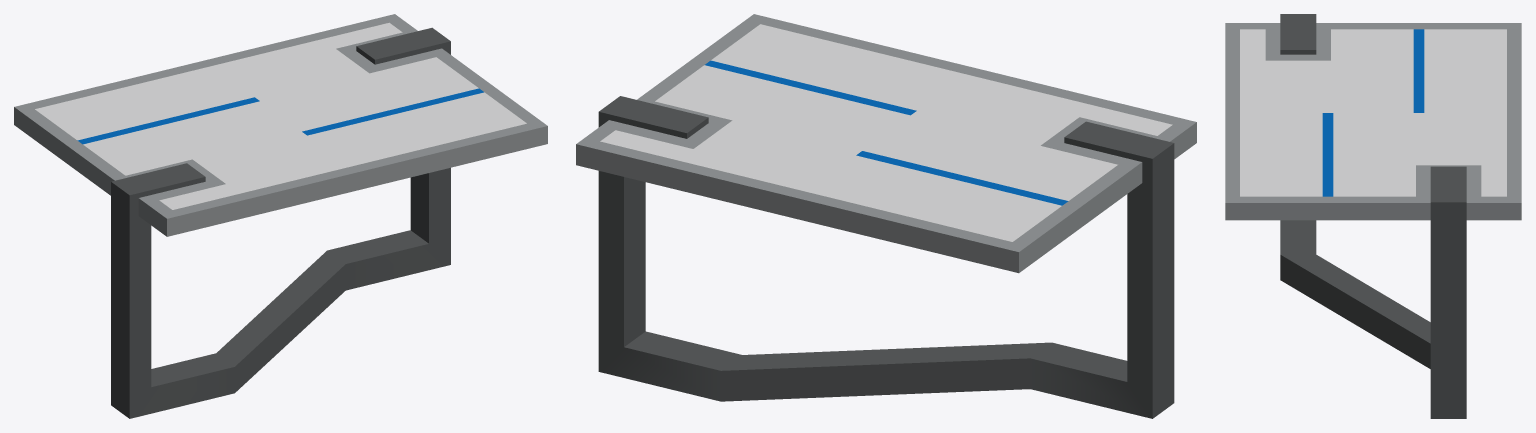
Rendered from Desk_020.fbx.
The picture shows the model from 3 angles, left to right: view 1: azimuth 30°, elevation 25°; view 2: azimuth 150°, elevation 25°; view 3: azimuth 270°, elevation 25°; orthographic projection. The views are drawn at different scales.
Parts seen in each view (by area): view 1: Desk_020; view 2: Desk_020; view 3: Desk_020.
Boxes of the visible parts, x1,y1,x2,y2 form: Desk_020: (14,14,547,418); Desk_020: (576,14,1196,418); Desk_020: (1225,14,1521,418).
Bounding box in the file's own units: 158 × 105 × 84.84.
